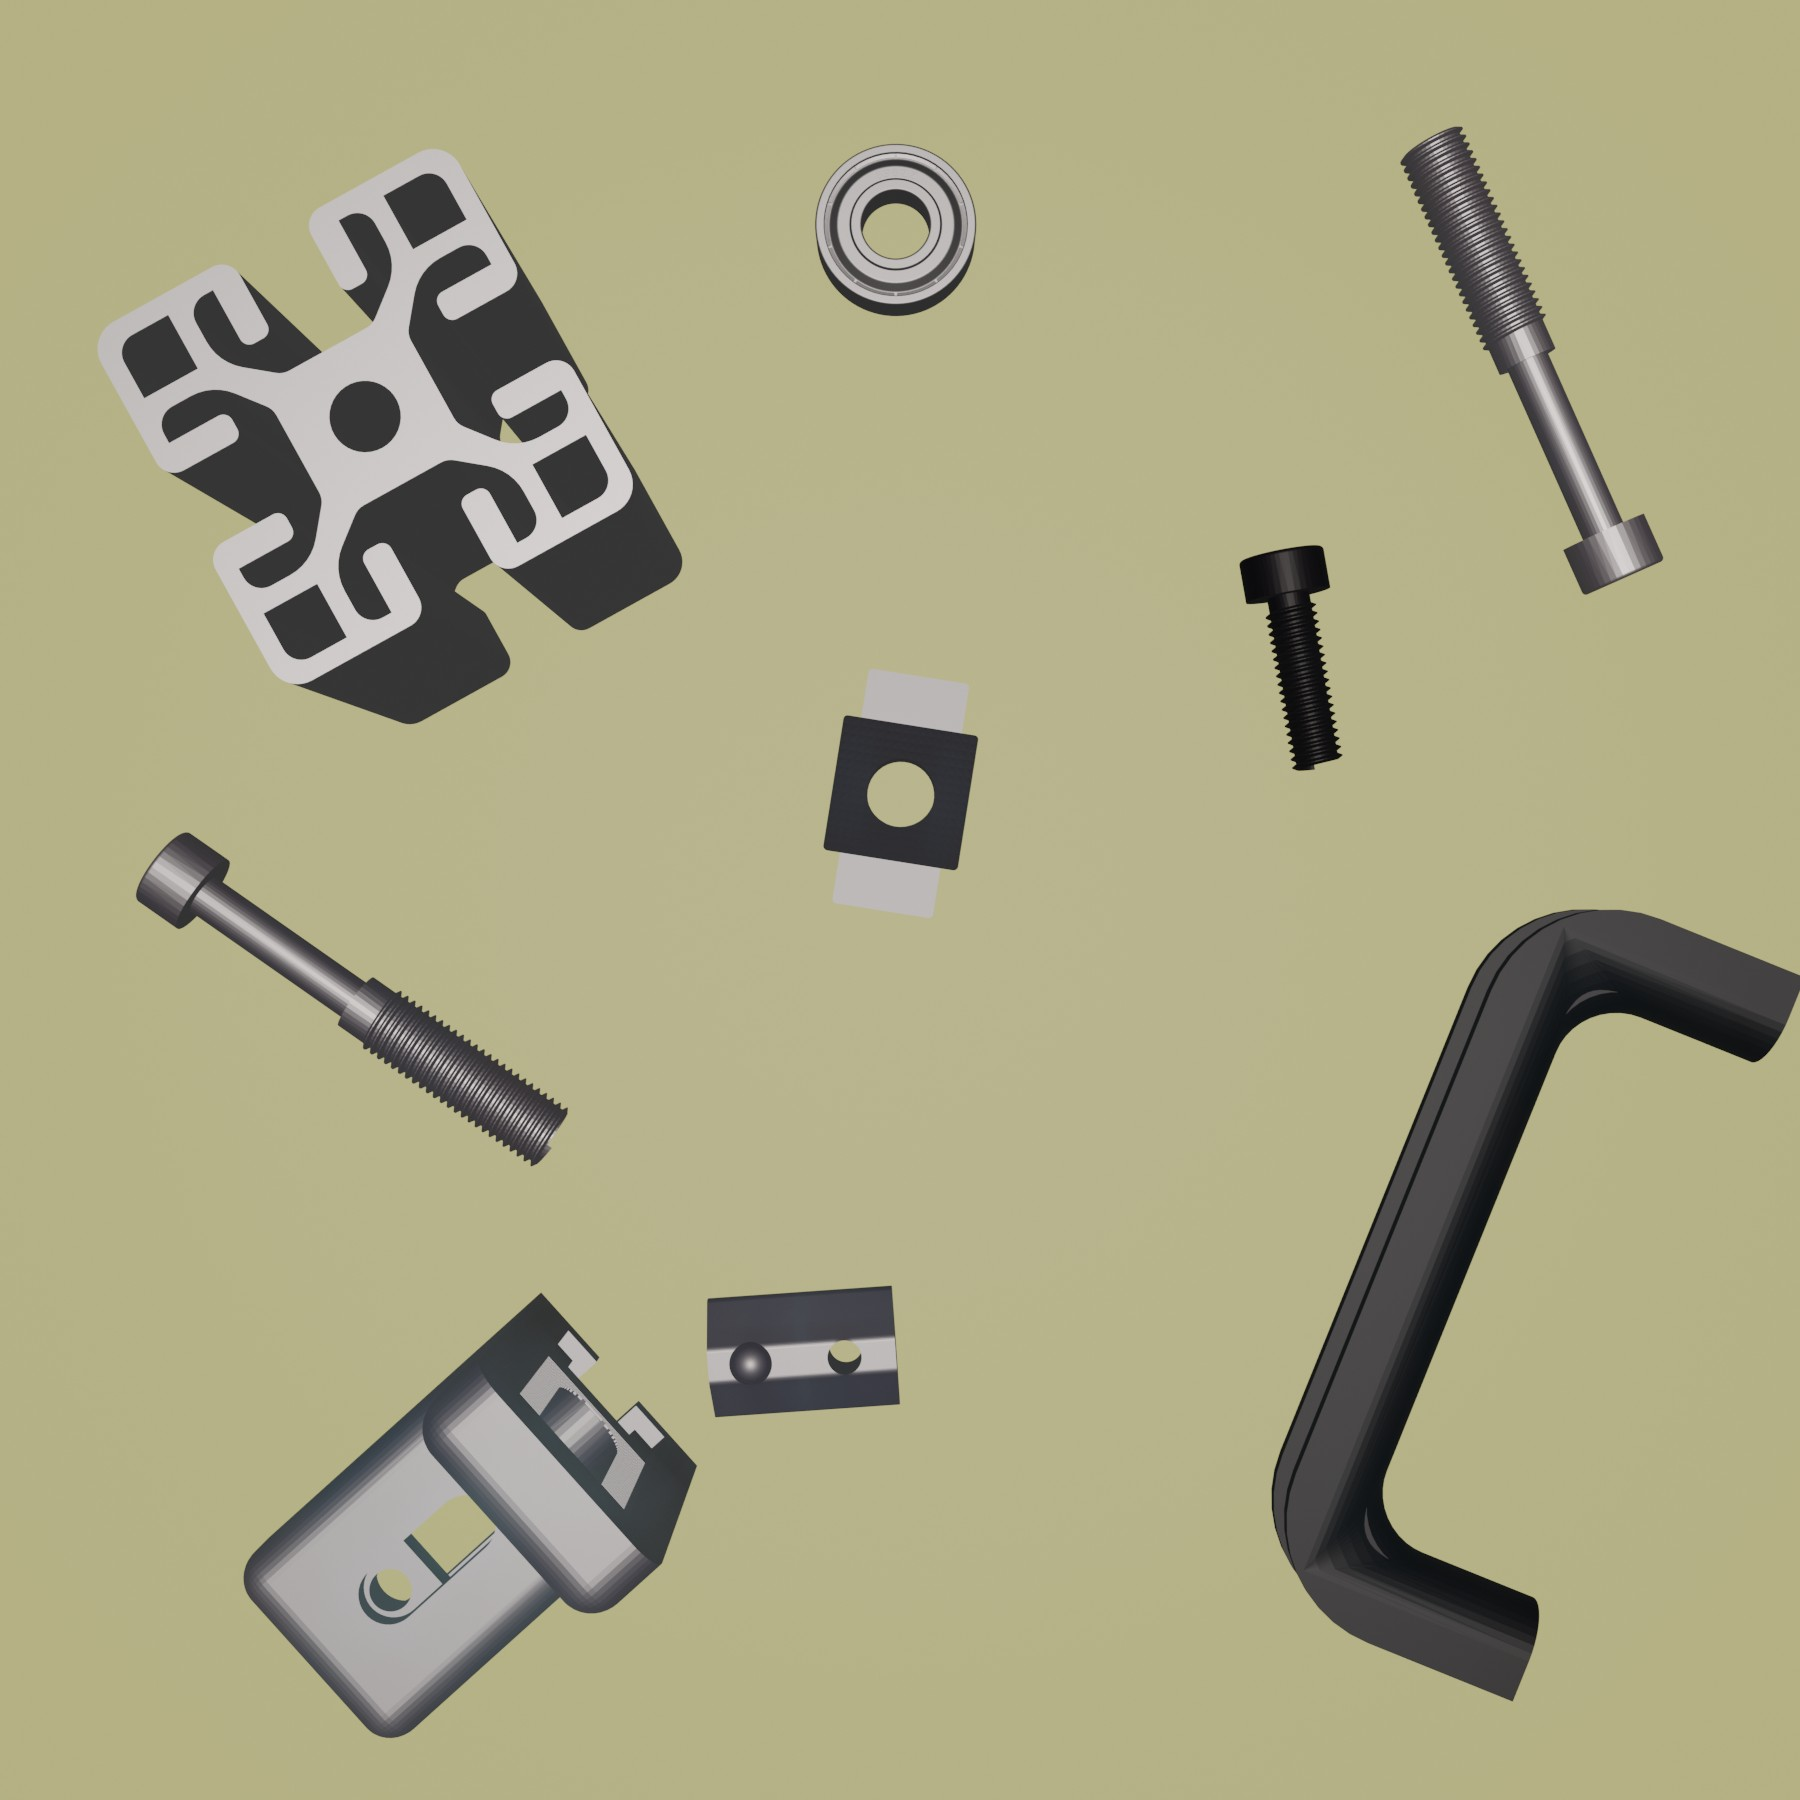Aluminium Extension: (94, 145, 686, 727)
Ball Bearing: (813, 142, 979, 320)
Multiwinkel: (242, 1289, 697, 1742)
Pull Handle: (1269, 905, 1800, 1701)
Shoulder Socket Head Cap Screw: (134, 827, 570, 1165), (1398, 124, 1665, 597)
Socket Head Cap Screw: (1236, 541, 1347, 775)
T Nut Square: (821, 669, 982, 921)
T Spring Nut: (704, 1282, 903, 1419)
